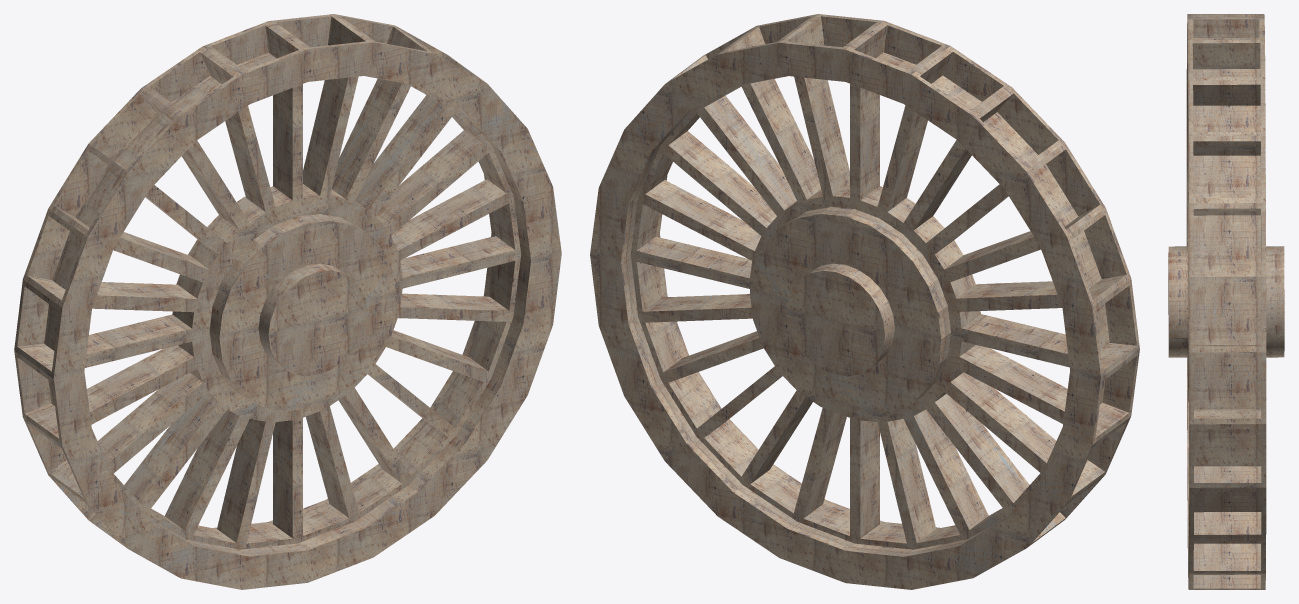
Rendered from wheel.fbx.
3 views of the same model, side by side, from view 1: azimuth 30°, elevation 25°; view 2: azimuth 150°, elevation 25°; view 3: azimuth 270°, elevation 25° (orthographic).
Parts seen in each view (by area): view 1: Group1; view 2: Group1; view 3: Group1.
Part boxes in pixels (bbox=[...]): Group1: bbox=[14, 14, 561, 589]; Group1: bbox=[590, 14, 1139, 589]; Group1: bbox=[1168, 14, 1284, 589].
Bounding box in the file's own units: 17047 × 17037 × 3422.
